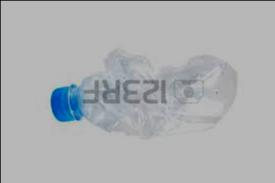Plastic: (47, 41, 243, 144)
